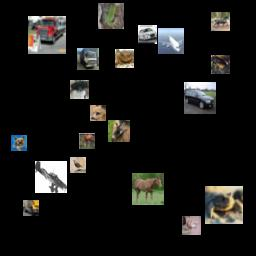airplane: (35, 161, 67, 193), (158, 28, 184, 54)
automobile: (184, 82, 216, 114), (138, 25, 157, 44)
bird: (70, 157, 86, 173)
cat: (182, 216, 201, 235)
deer: (108, 120, 130, 142), (79, 133, 95, 149)
dog: (70, 80, 89, 99), (90, 105, 106, 121), (11, 135, 27, 151)
frog: (205, 186, 243, 224), (98, 3, 124, 29), (211, 55, 230, 74), (115, 49, 134, 68)
truck: (28, 16, 66, 54), (77, 48, 99, 70), (23, 200, 39, 216)
